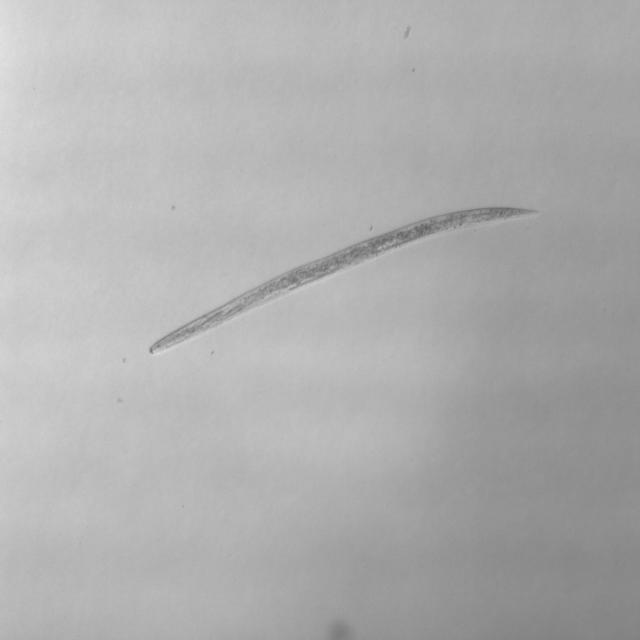Radopholus: (140, 198, 547, 360)
